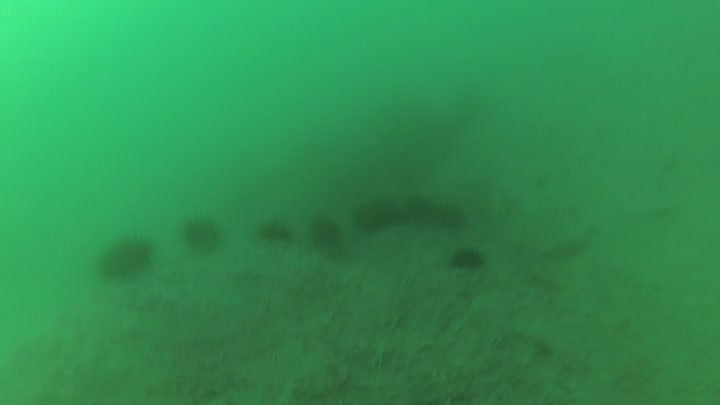echinus: (98, 235, 153, 283), (357, 198, 404, 234), (179, 216, 223, 253), (431, 201, 468, 231), (309, 214, 341, 247), (450, 246, 487, 272), (255, 217, 291, 243)
